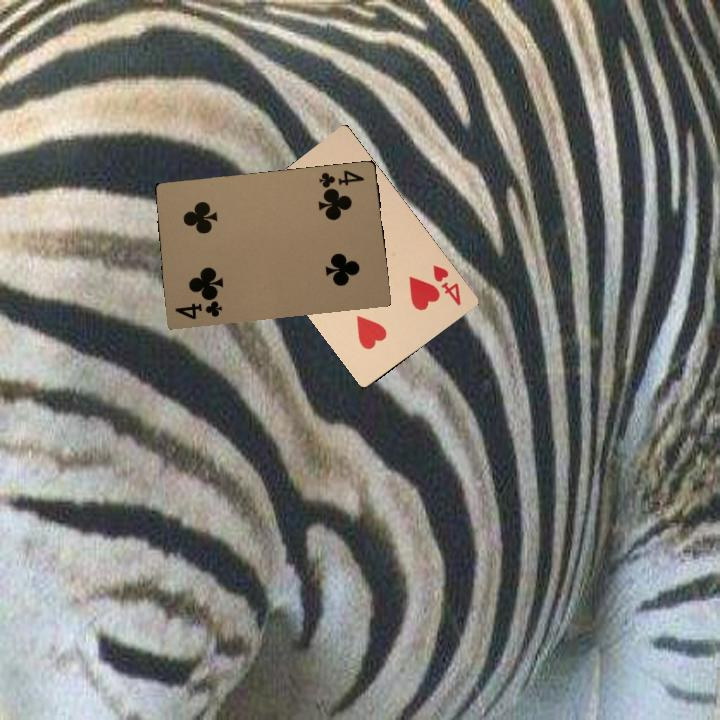4c: (171, 294, 225, 322), (315, 166, 367, 194)
4h: (429, 261, 464, 308)
